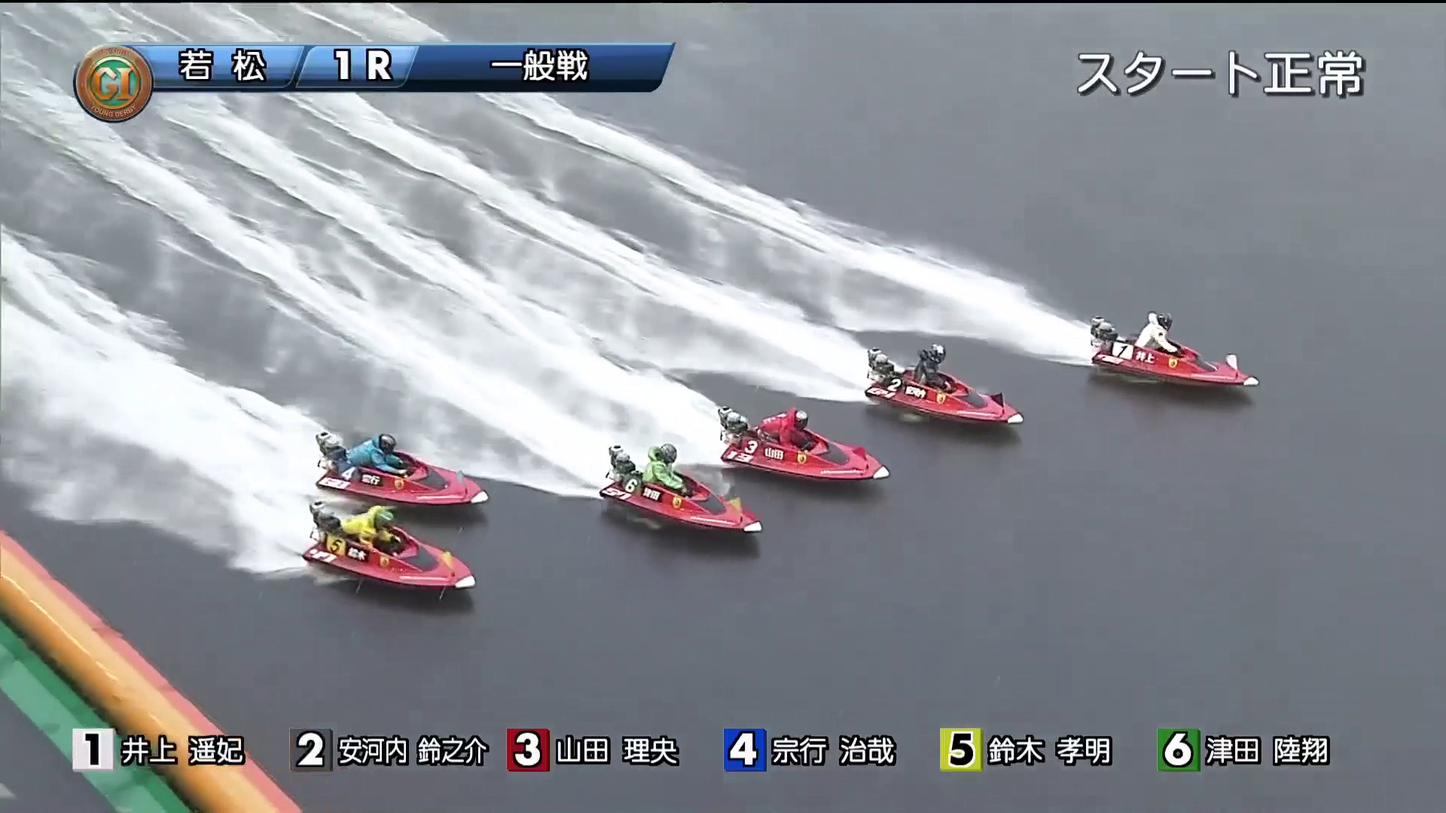１号艇: (1095, 337, 1233, 390)
２号艇: (871, 357, 1000, 417)
３号艇: (746, 426, 886, 467)
４号艇: (619, 461, 739, 527)
５号艇: (332, 440, 455, 495)
６号艇: (363, 533, 463, 589)
